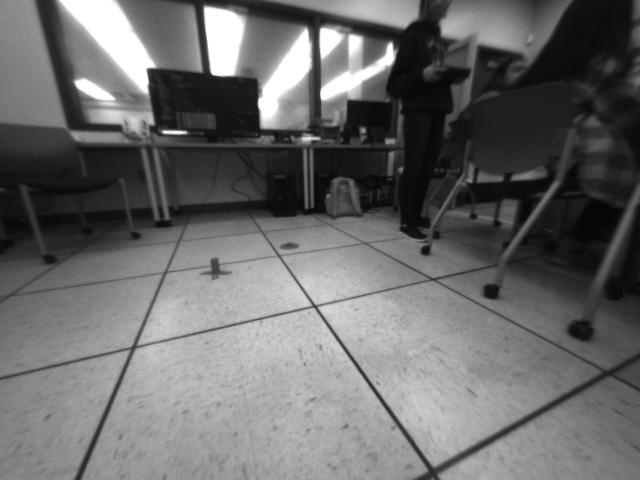X: (199, 256, 234, 281)
